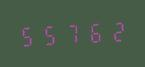five: (18, 22, 39, 48), (40, 21, 61, 47)
seven: (62, 20, 83, 46)
six: (84, 19, 105, 45)
two: (106, 18, 127, 44)
